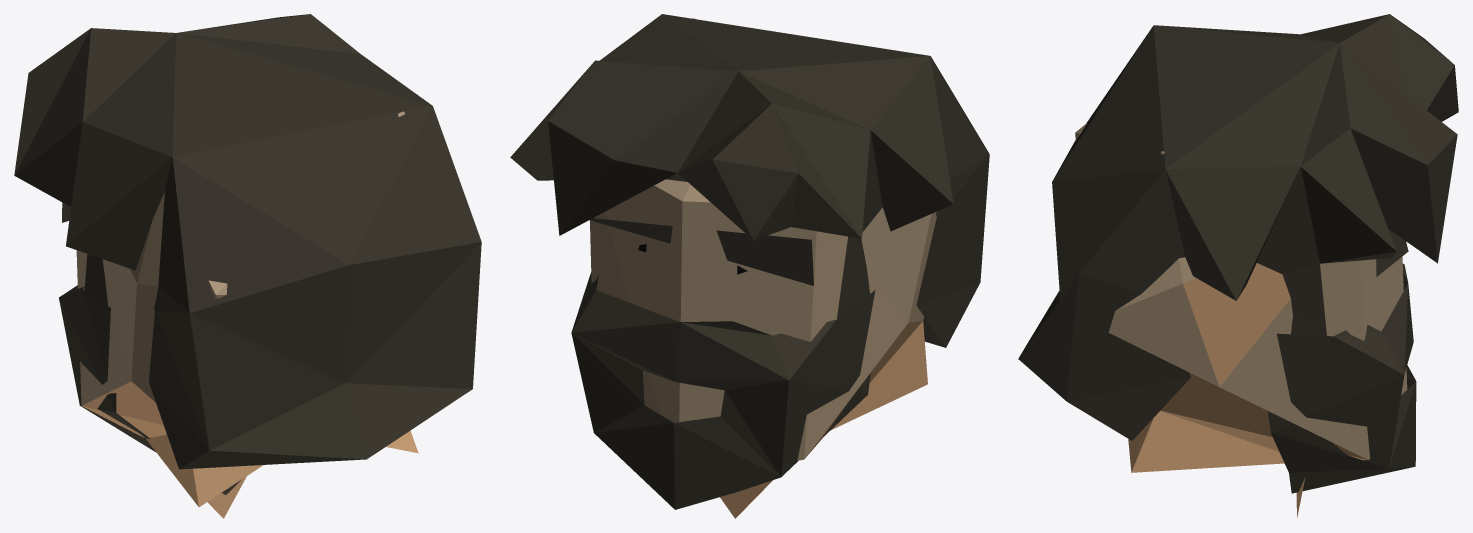
The model's file is Head.obj.
The picture shows the model from 3 angles, left to right: view 1: azimuth 30°, elevation 25°; view 2: azimuth 150°, elevation 25°; view 3: azimuth 270°, elevation 25°; orthographic projection. The views are drawn at different scales.
Bounding box in the file's own units: 0.3281 × 0.3837 × 0.3298.
Materials: 1 (1 with a texture image).
